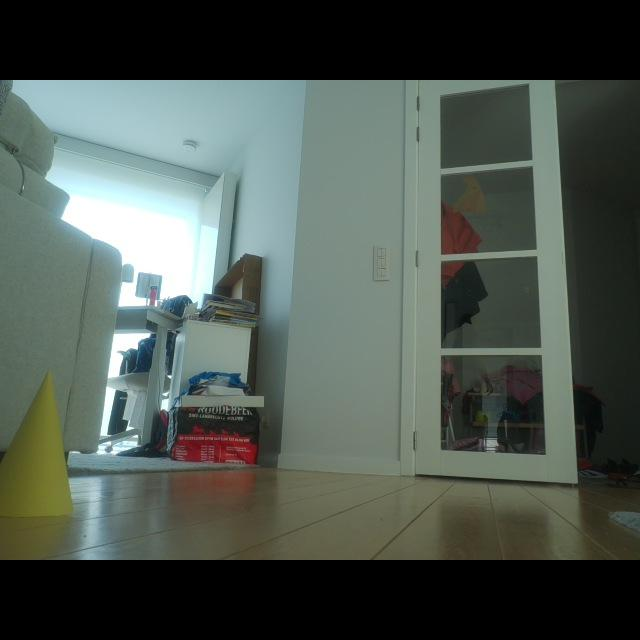bolya: (0, 372, 73, 515)
